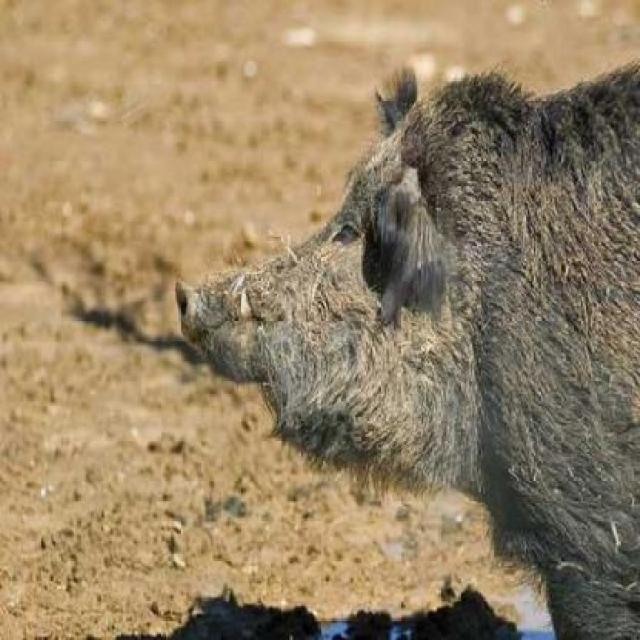Boar: (164, 44, 638, 598)
